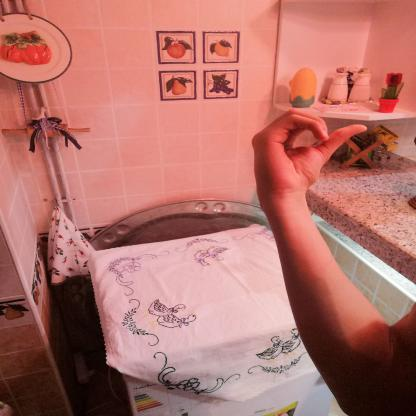WAW: (240, 102, 376, 206)
